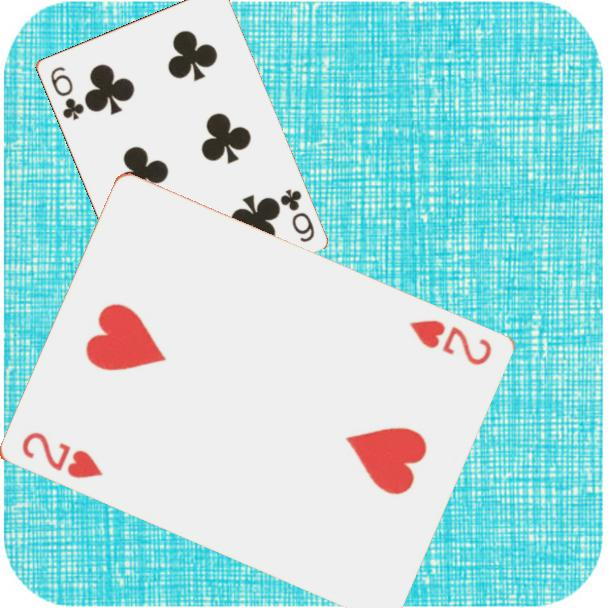c06: (46, 63, 87, 123), (276, 185, 317, 245)
h02: (17, 428, 106, 482), (405, 316, 494, 369)
